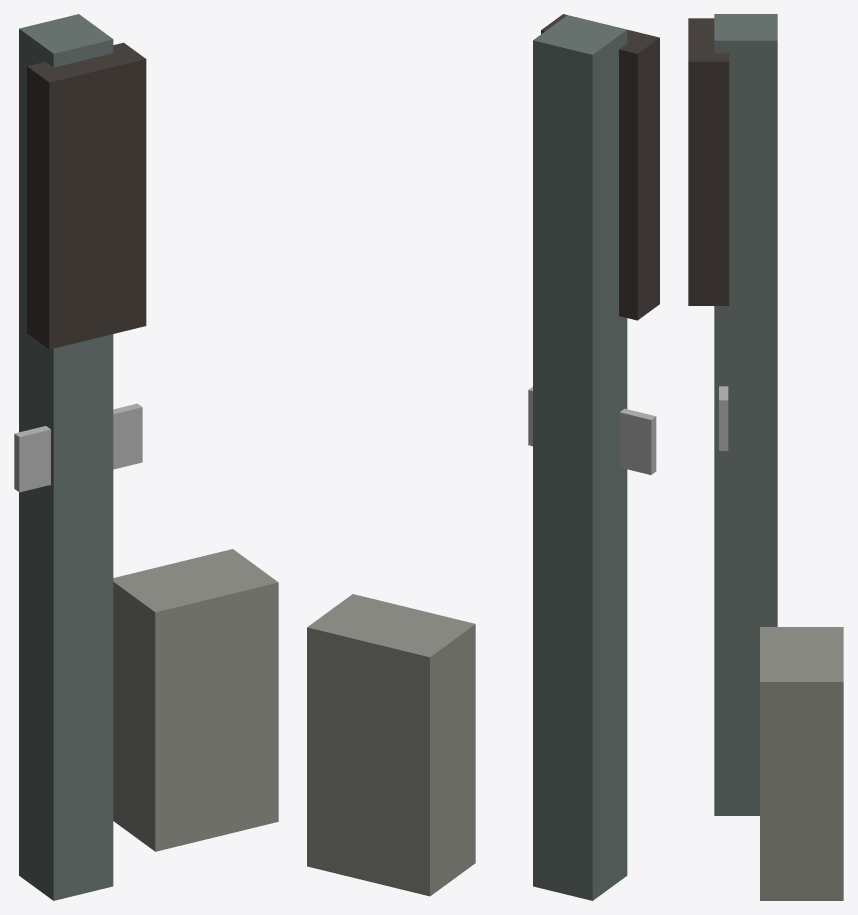
Rendered from SM_senal_via_v0_LOD1.fbx.
The picture shows the model from 3 angles, left to right: view 1: azimuth 30°, elevation 25°; view 2: azimuth 150°, elevation 25°; view 3: azimuth 270°, elevation 25°; orthographic projection. The views are drawn at different scales.
Visible parts, largest first — view 1: SM_bloques.senal_via_v0_LOD1; view 2: SM_bloques.senal_via_v0_LOD1; view 3: SM_bloques.senal_via_v0_LOD1.
Boxes of the visible parts, x1=… form: SM_bloques.senal_via_v0_LOD1: x1=14, y1=14, x2=278, y2=900; SM_bloques.senal_via_v0_LOD1: x1=307, y1=14, x2=659, y2=900; SM_bloques.senal_via_v0_LOD1: x1=688, y1=14, x2=843, y2=900.
Size of the model in its own units: 1.6 by 4.6 by 0.835.
